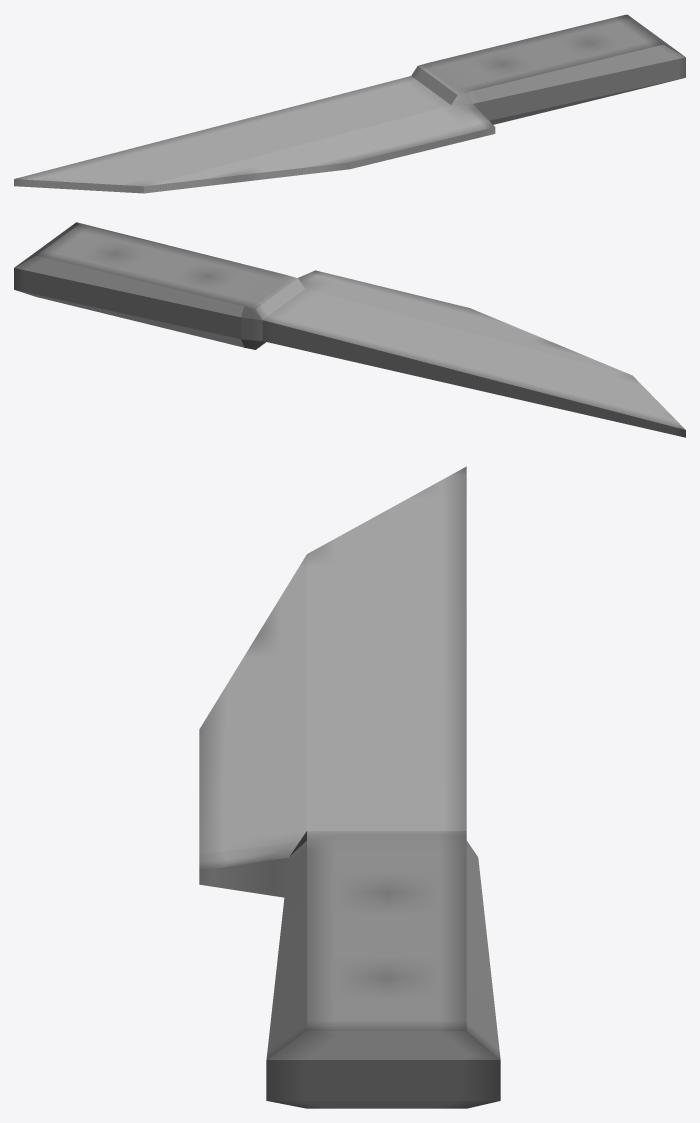
File: obj_knife.fbx
3 views of the same model, one above another, from view 1: azimuth 30°, elevation 25°; view 2: azimuth 150°, elevation 25°; view 3: azimuth 270°, elevation 25° (orthographic). The views are drawn at different scales.
Visible parts, largest first — view 1: obj_knife; view 2: obj_knife; view 3: obj_knife.
Boxes of the visible parts, x1=… form: obj_knife: x1=14, y1=14, x2=685, y2=193; obj_knife: x1=14, y1=222, x2=685, y2=437; obj_knife: x1=199, y1=466, x2=500, y2=1108.
Bounding box in the file's own units: 44.24 × 2.64 × 9.28.
